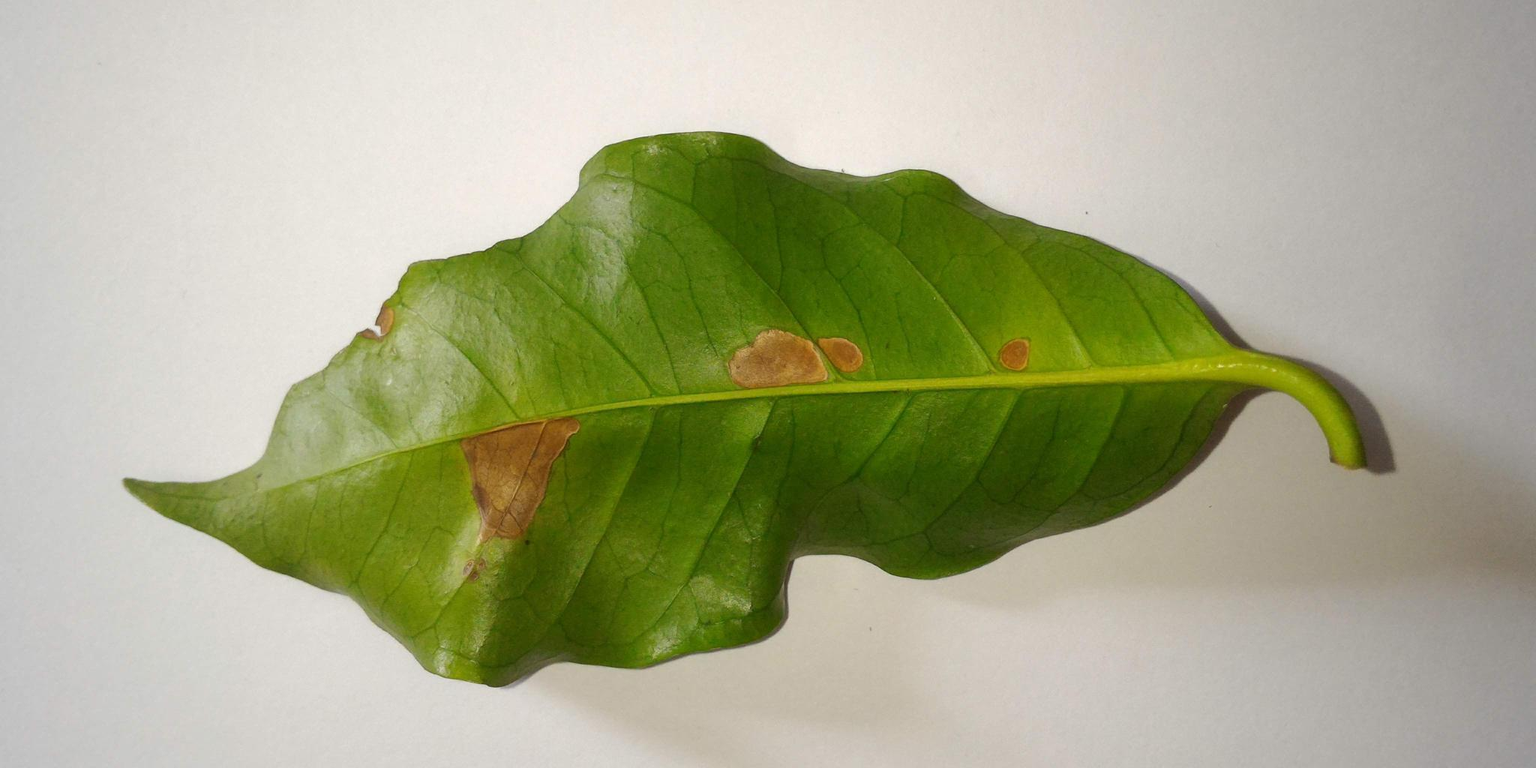Miner: (450, 400, 587, 548), (715, 308, 867, 403)
